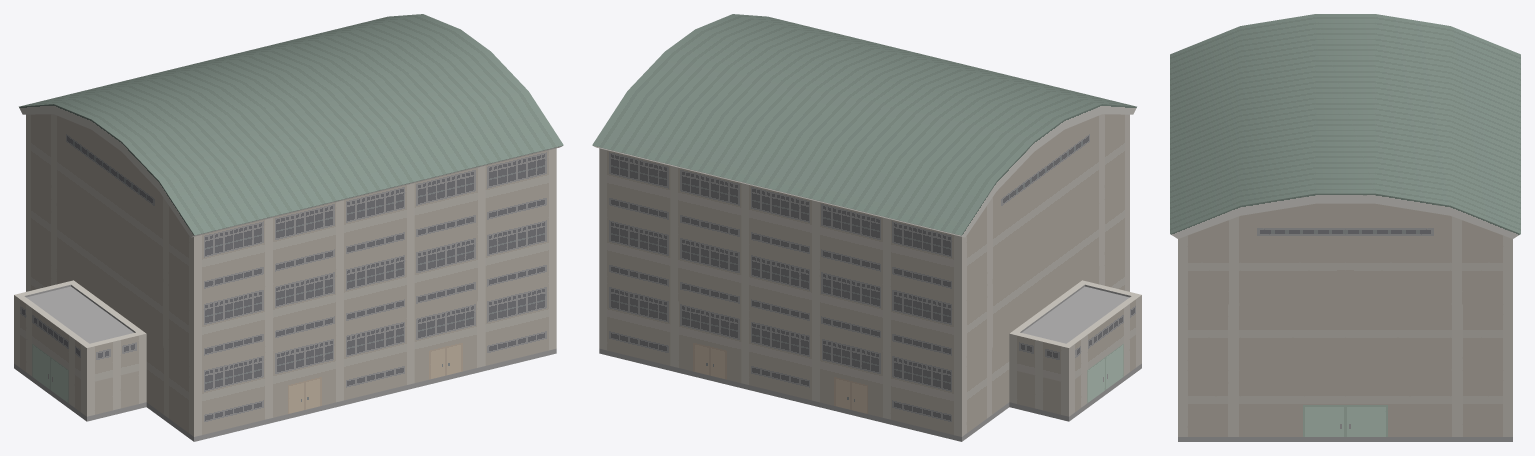
File: 0500_Gymnasium.glb
3 views of the same model, side by side, from view 1: azimuth 30°, elevation 25°; view 2: azimuth 150°, elevation 25°; view 3: azimuth 270°, elevation 25° (orthographic).
Visible parts, largest first — view 1: part_0; view 2: part_0; view 3: part_0.
Boxes of the visible parts, left/top/right/bottom form: part_0: left=14, top=14, right=563, bottom=441; part_0: left=592, top=14, right=1141, bottom=441; part_0: left=1170, top=14, right=1520, bottom=441.
Size of the model in its own units: 27.07 by 15.24 by 19.39.
Materials: 1 (1 with a texture image).
